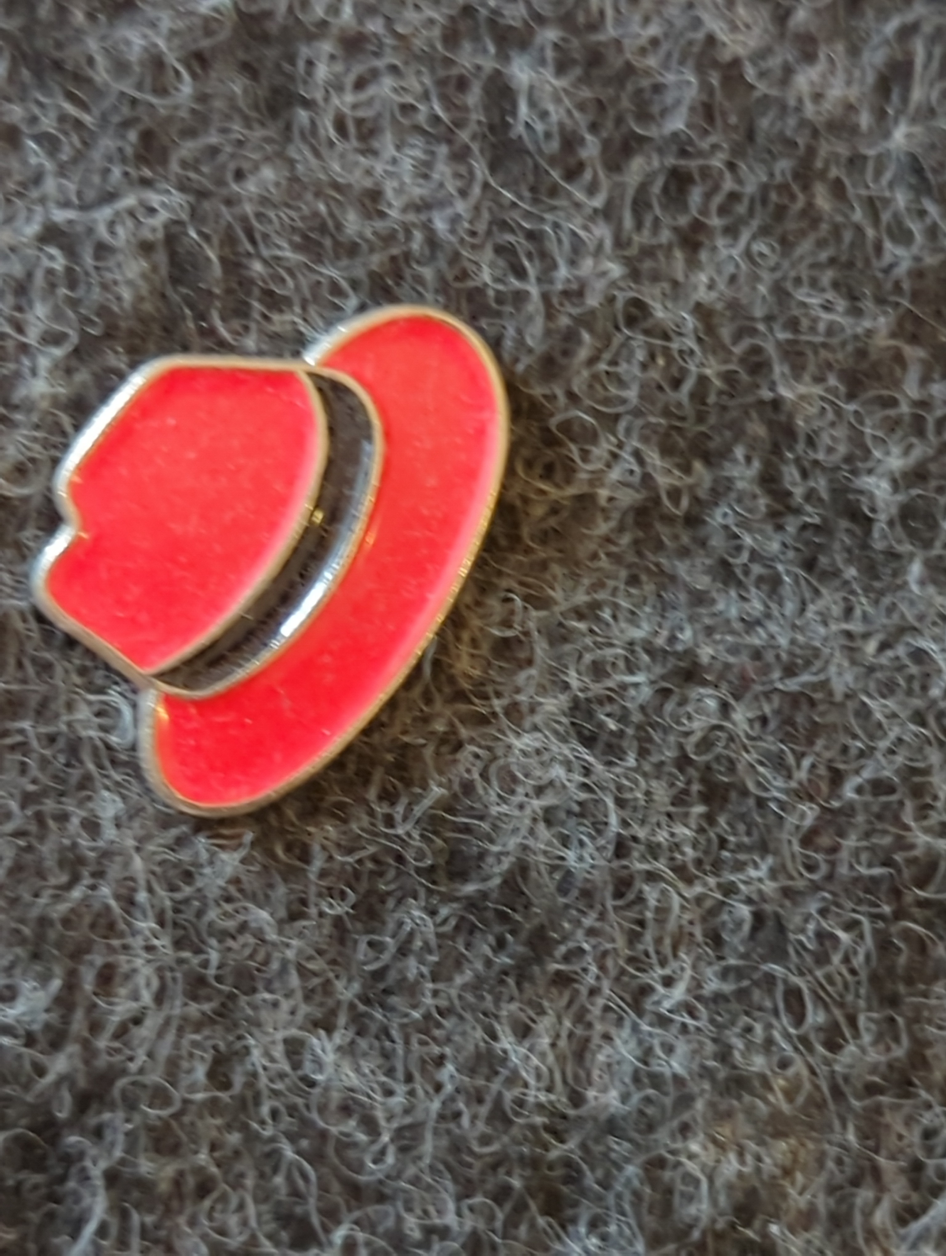Red-Hat: (3, 252, 664, 953)
